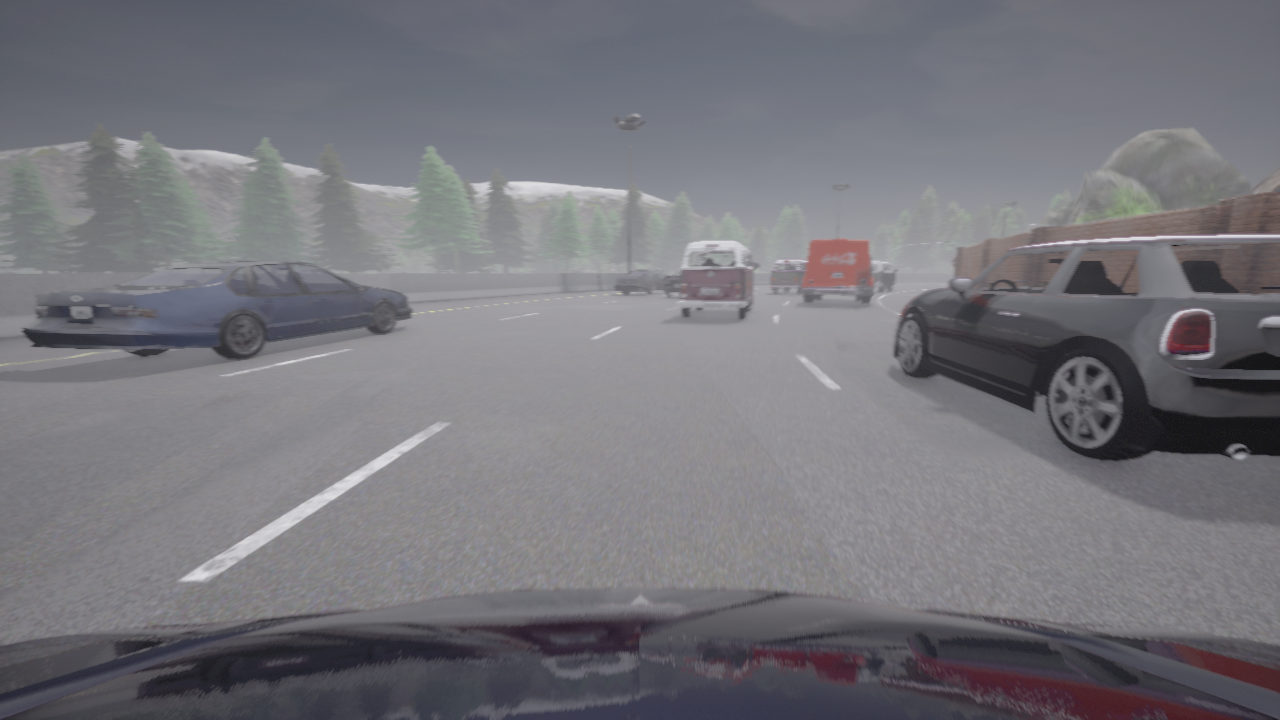cyclist: (0, 588, 1279, 719), (893, 235, 1279, 461), (21, 261, 411, 359), (677, 240, 758, 319), (802, 239, 873, 304), (770, 259, 806, 293), (614, 270, 665, 294), (870, 260, 896, 292), (662, 269, 679, 297)
